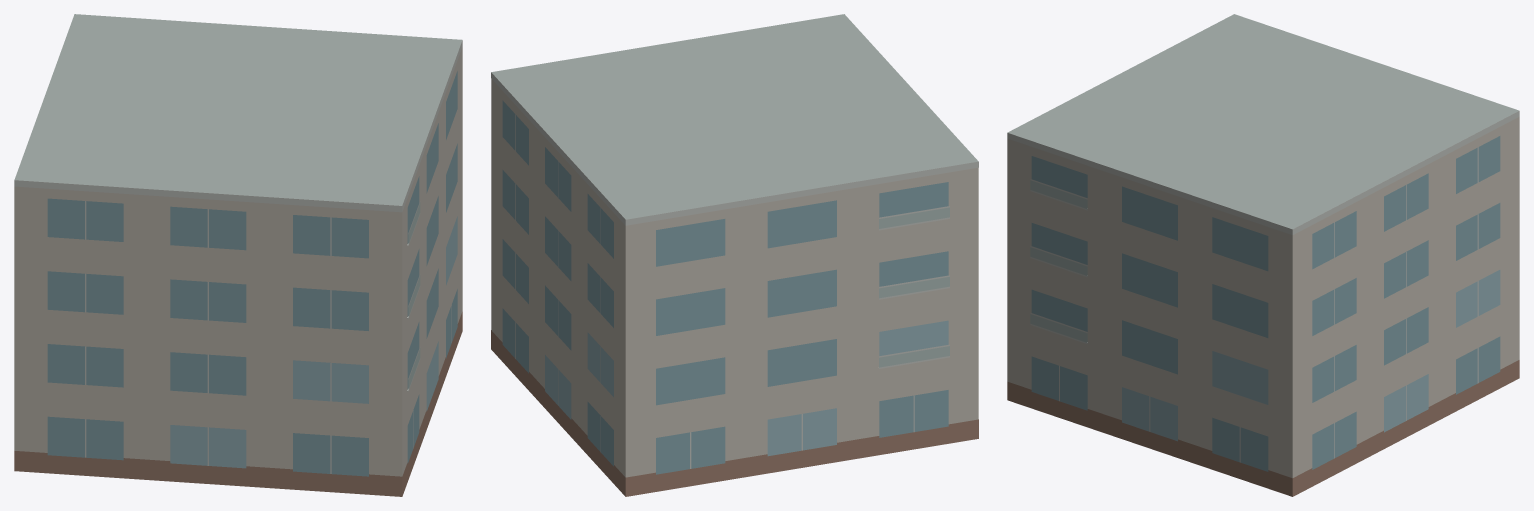
Rendered from survey-upis-33038686.glb.
3 views of the same model, side by side, from view 1: azimuth 30°, elevation 25°; view 2: azimuth 150°, elevation 25°; view 3: azimuth 270°, elevation 25° (orthographic). The views are drawn at different scales.
Parts seen in each view (by area): view 1: survey-upis-33038686.tmp; view 2: survey-upis-33038686.tmp; view 3: survey-upis-33038686.tmp.
Boxes of the visible parts, x1=… form: survey-upis-33038686.tmp: x1=14, y1=14, x2=462, y2=496; survey-upis-33038686.tmp: x1=491, y1=14, x2=978, y2=496; survey-upis-33038686.tmp: x1=1007, y1=14, x2=1519, y2=496.
Bounding box in the file's own units: 19.35 × 11.2 × 19.46.
